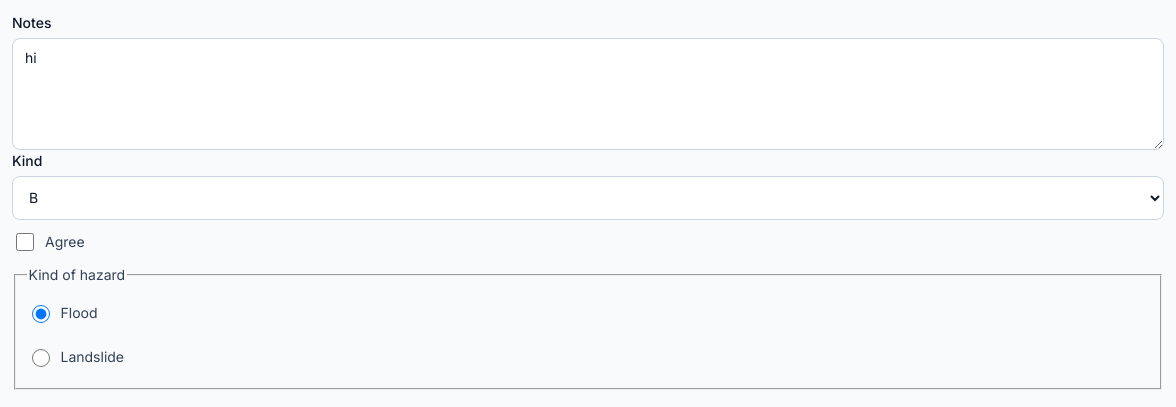
Test: form fields › should support textarea, select and checkbox
Check: the text box labelled "Notes" holds "hi", box [12,38,1164,150]
Select "A" in the dropdown labelled "Kind": (588, 198) [12,176,1164,220]
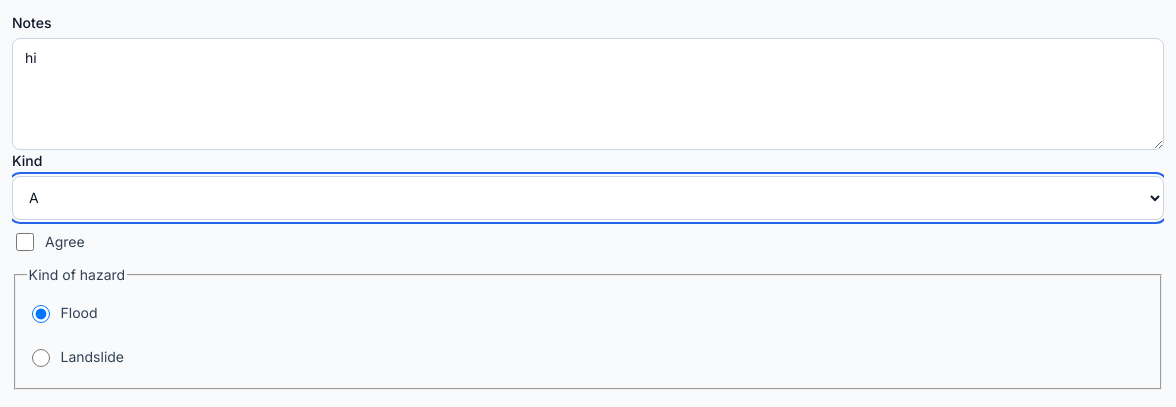
Click the checkbox labelled "Agree": (25, 242) [16,233,34,251]
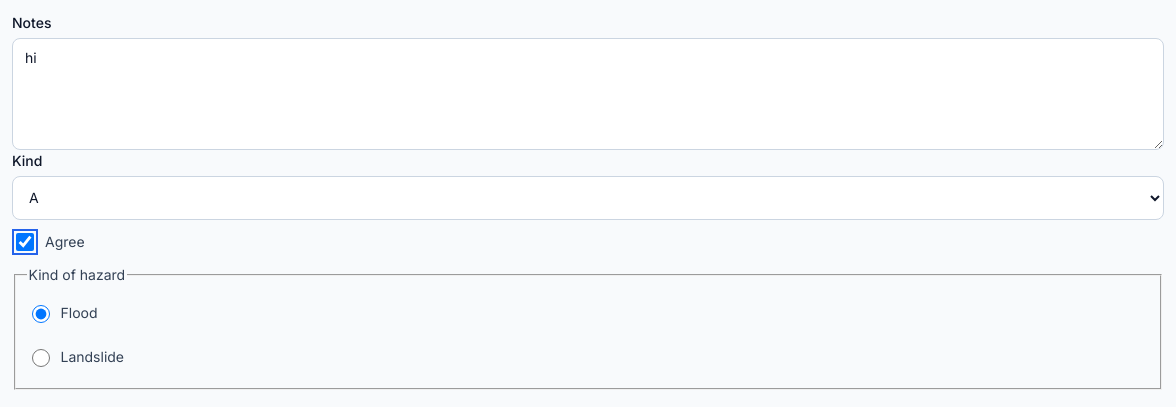
Check: the checkbox labelled "Agree" is checked, box [16,233,34,251]
Click the radio button labelled "Landslide": (40, 358) [32,349,50,367]
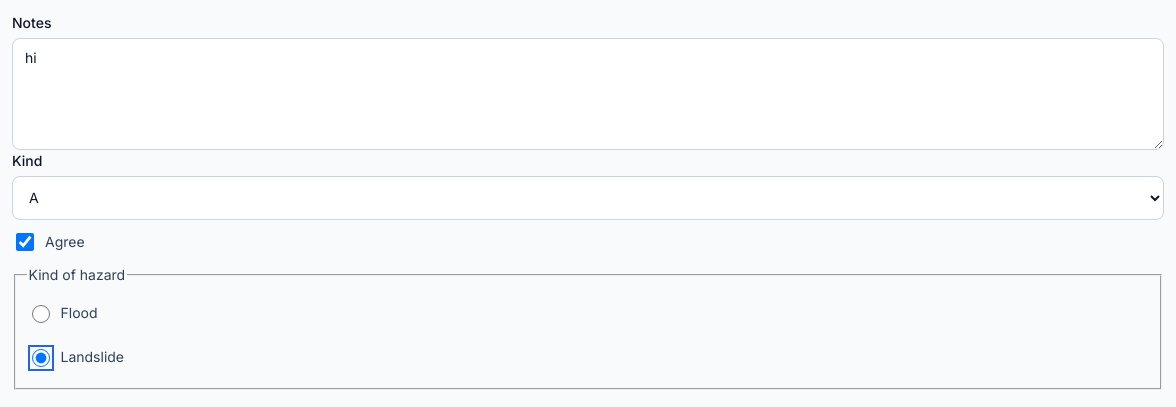
Check: the radio button labelled "Landslide" is checked, box [32,349,50,367]
Check: the radio button labelled "Flood" is not checked, box [32,305,50,323]
